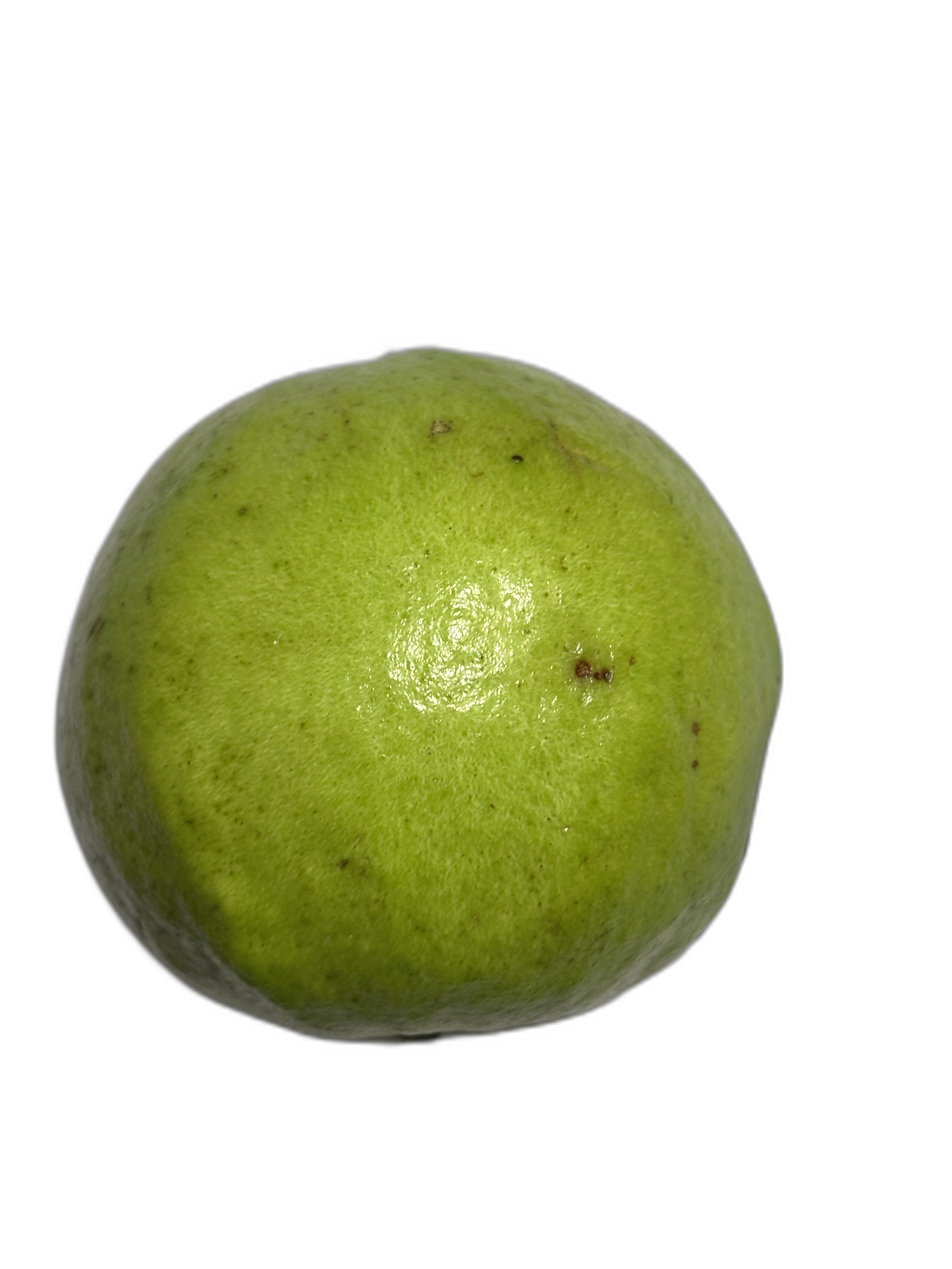guava: (123, 167, 781, 1172)
